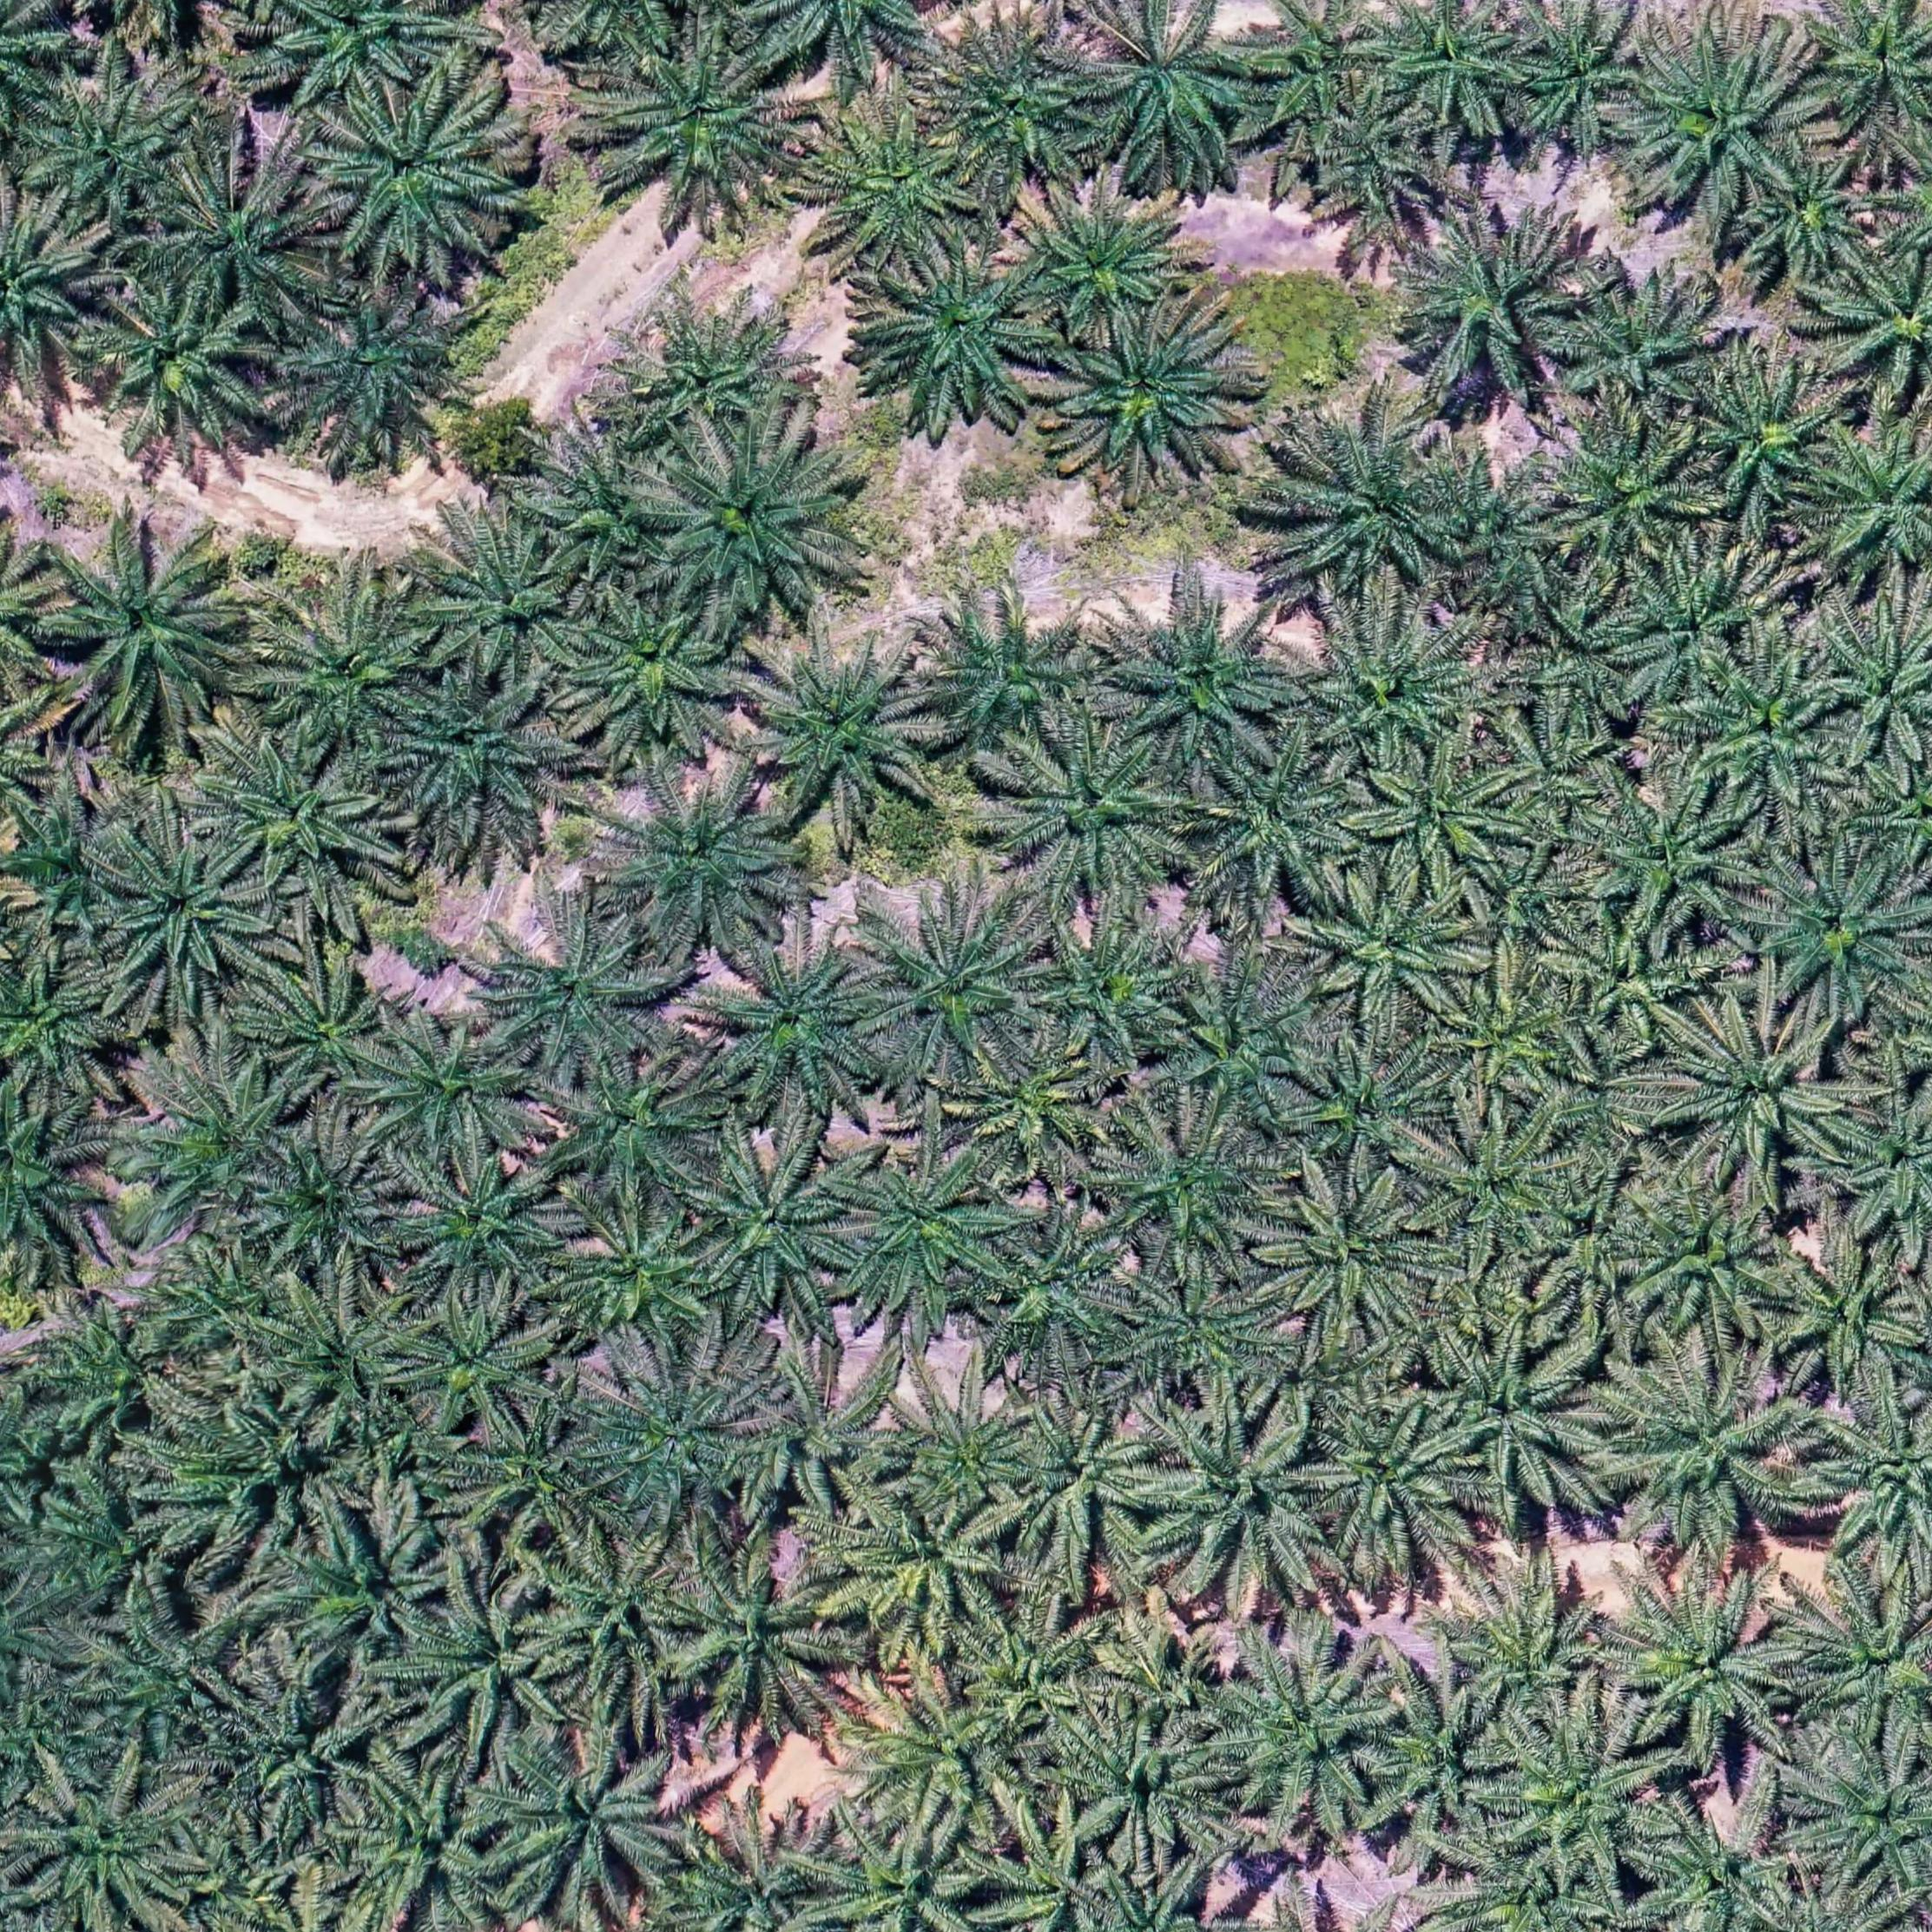palmtree: (38, 523, 254, 736), (469, 1725, 689, 1922), (1606, 1358, 1811, 1559), (596, 31, 808, 217), (1143, 1401, 1340, 1601), (648, 431, 854, 619), (313, 86, 518, 274), (841, 1669, 1050, 1852), (1396, 212, 1597, 403), (1617, 30, 1819, 217), (662, 1541, 855, 1733), (748, 640, 946, 828), (1203, 1645, 1402, 1830), (1608, 1571, 1800, 1762), (1421, 1322, 1609, 1513), (1658, 1001, 1850, 1188), (1278, 419, 1472, 600), (858, 897, 1054, 1075), (610, 775, 803, 953), (863, 249, 1057, 426), (1054, 312, 1250, 486), (175, 1389, 369, 1564), (723, 1350, 912, 1526), (1488, 1717, 1675, 1894), (278, 279, 466, 452), (1000, 732, 1191, 903), (403, 1582, 584, 1763), (477, 907, 668, 1077), (1111, 591, 1297, 762), (992, 1395, 1168, 1574), (715, 941, 893, 1118), (92, 278, 278, 445), (382, 669, 566, 837), (274, 1510, 458, 1678), (583, 1360, 763, 1529), (213, 742, 399, 906), (628, 296, 822, 452), (1057, 1707, 1242, 1870), (211, 1667, 389, 1834), (133, 1058, 313, 1223), (102, 826, 276, 995), (336, 1757, 511, 1927), (1082, 6, 1267, 166), (801, 108, 979, 274), (1303, 618, 1488, 776), (688, 1147, 857, 1319), (1748, 854, 1922, 1021), (567, 593, 744, 756), (531, 1536, 702, 1705), (1309, 1401, 1479, 1569), (156, 157, 330, 320), (260, 590, 436, 749), (844, 1154, 1018, 1313), (1537, 420, 1712, 576), (1197, 743, 1365, 905), (839, 1498, 1018, 1650), (22, 1771, 197, 1924), (424, 524, 591, 683), (1623, 1189, 1792, 1346), (1274, 1180, 1441, 1338), (1618, 550, 1786, 707), (365, 1017, 542, 1166), (1162, 977, 1335, 1129), (25, 71, 199, 222), (1441, 1576, 1611, 1731), (938, 36, 1111, 187), (82, 1606, 247, 1763), (1766, 1236, 1926, 1397), (1788, 1578, 1932, 1756), (557, 1206, 726, 1357), (1590, 784, 1759, 934), (979, 1211, 1141, 1368), (240, 1133, 407, 1283), (1553, 273, 1724, 419), (1363, 1689, 1522, 1845), (1025, 916, 1190, 1066), (1019, 196, 1190, 340), (553, 1054, 721, 1199), (266, 1290, 432, 1435), (929, 607, 1100, 747), (1106, 1115, 1272, 1259), (33, 1307, 195, 1454), (458, 1406, 620, 1551), (1693, 360, 1850, 510), (398, 1152, 564, 1293), (1810, 1388, 1932, 1579), (1697, 663, 1853, 812), (1323, 870, 1480, 1014), (963, 1601, 1114, 1751), (656, 1817, 852, 1932), (1373, 3, 1536, 140), (1795, 1744, 1932, 1903), (1421, 443, 1557, 603), (40, 1471, 181, 1624), (1638, 1804, 1807, 1932), (1509, 9, 1652, 158), (887, 1386, 1038, 1526), (1421, 1118, 1572, 1258), (536, 441, 686, 581), (402, 1298, 553, 1436), (806, 1824, 998, 1932), (1738, 144, 1886, 284), (1298, 1041, 1454, 1173), (266, 0, 455, 108), (1127, 1271, 1288, 1398), (0, 195, 107, 386), (1250, 1316, 1414, 1441), (1562, 917, 1711, 1052), (1304, 84, 1443, 227), (0, 1093, 110, 1272), (1, 794, 141, 933), (1810, 431, 1932, 590), (1364, 758, 1517, 885), (1246, 0, 1388, 135), (1824, 1087, 1932, 1263), (971, 1037, 1110, 1171), (0, 960, 129, 1104), (263, 961, 402, 1093), (168, 1824, 333, 1932), (1810, 0, 1932, 141), (1536, 1042, 1661, 1178), (1441, 978, 1578, 1102), (1513, 597, 1649, 722), (164, 1243, 303, 1365), (1417, 1851, 1612, 1932), (1104, 1620, 1238, 1737), (1828, 250, 1932, 399), (1825, 612, 1932, 751), (973, 1814, 1097, 1932), (1499, 714, 1627, 824), (1468, 847, 1586, 952)
